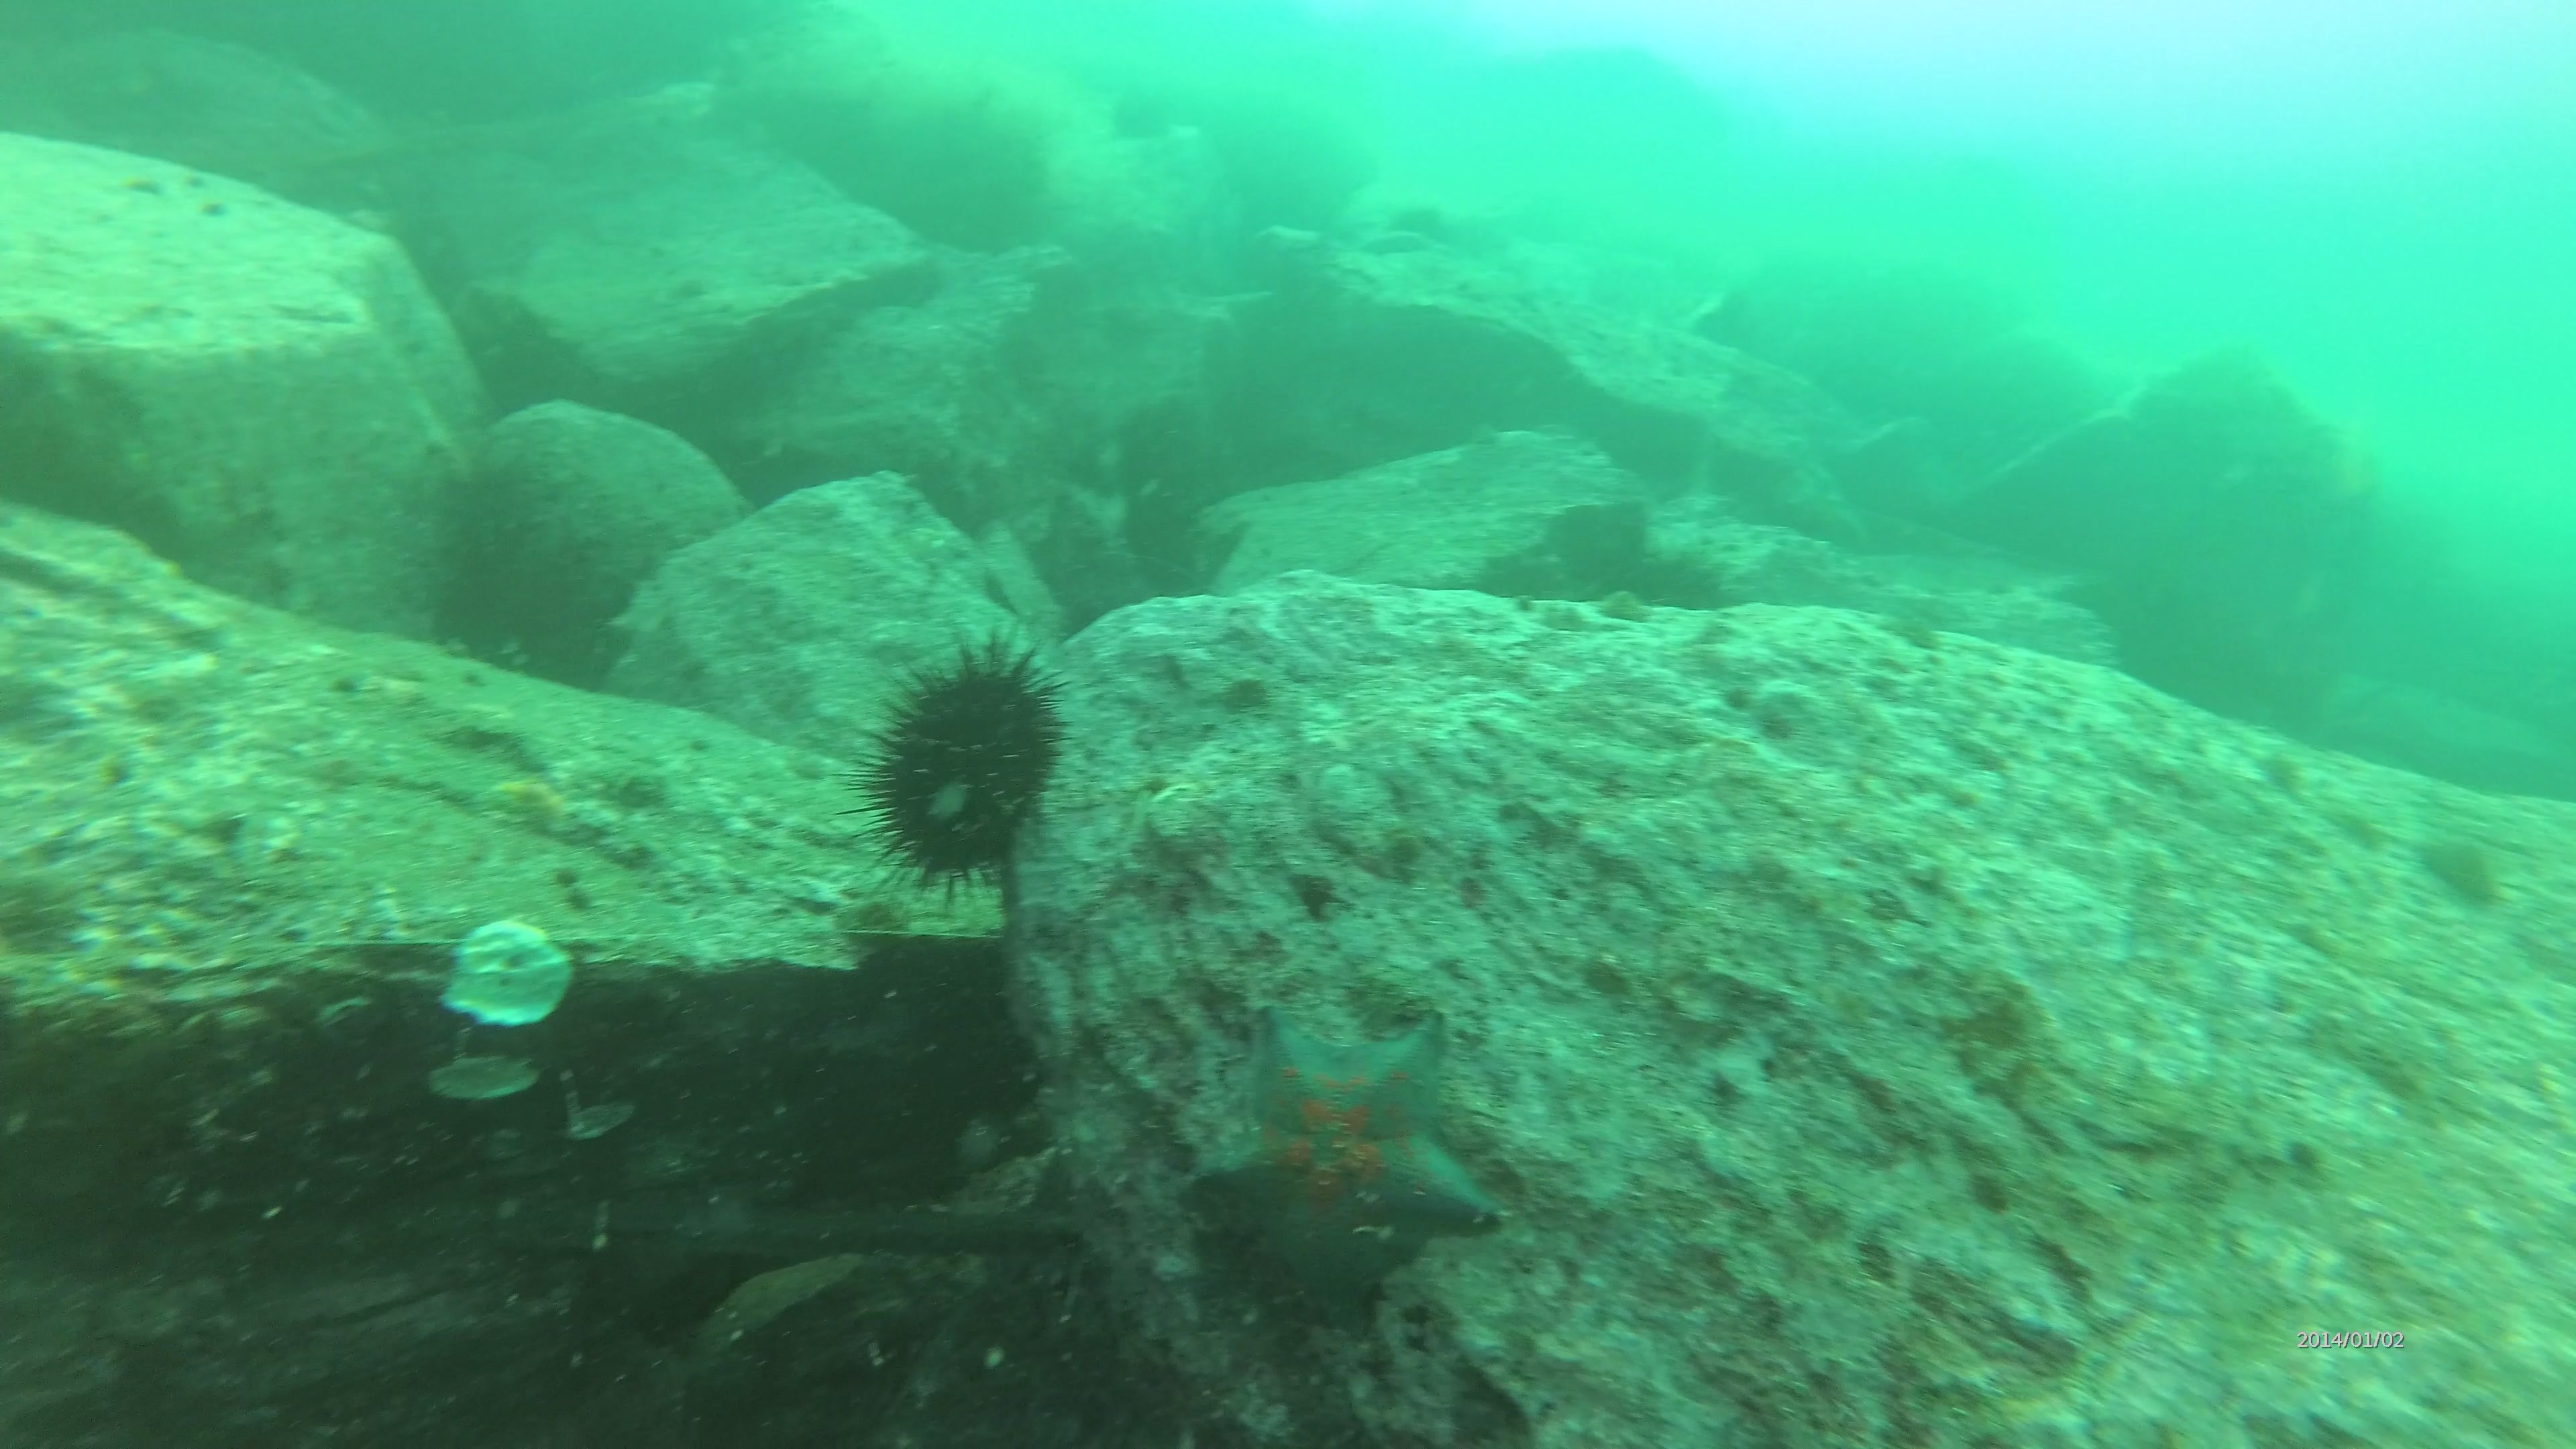echinus: (830, 633, 1072, 879)
starfish: (1182, 1007, 1511, 1343)
